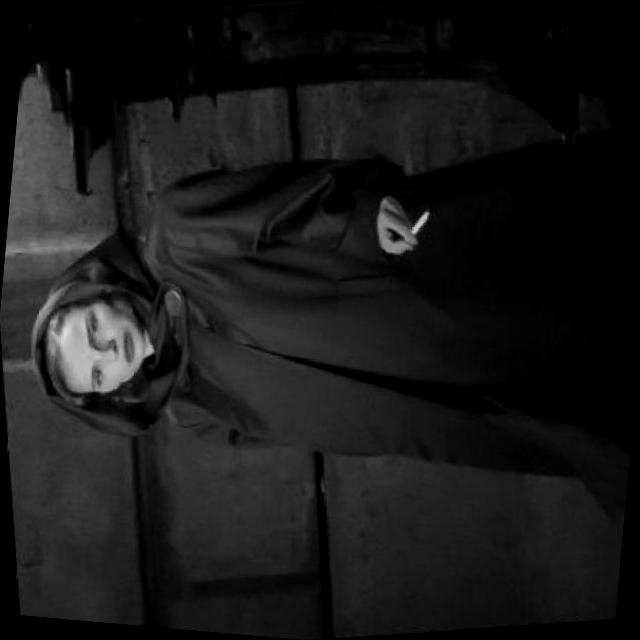cigarette: (370, 202, 439, 264)
